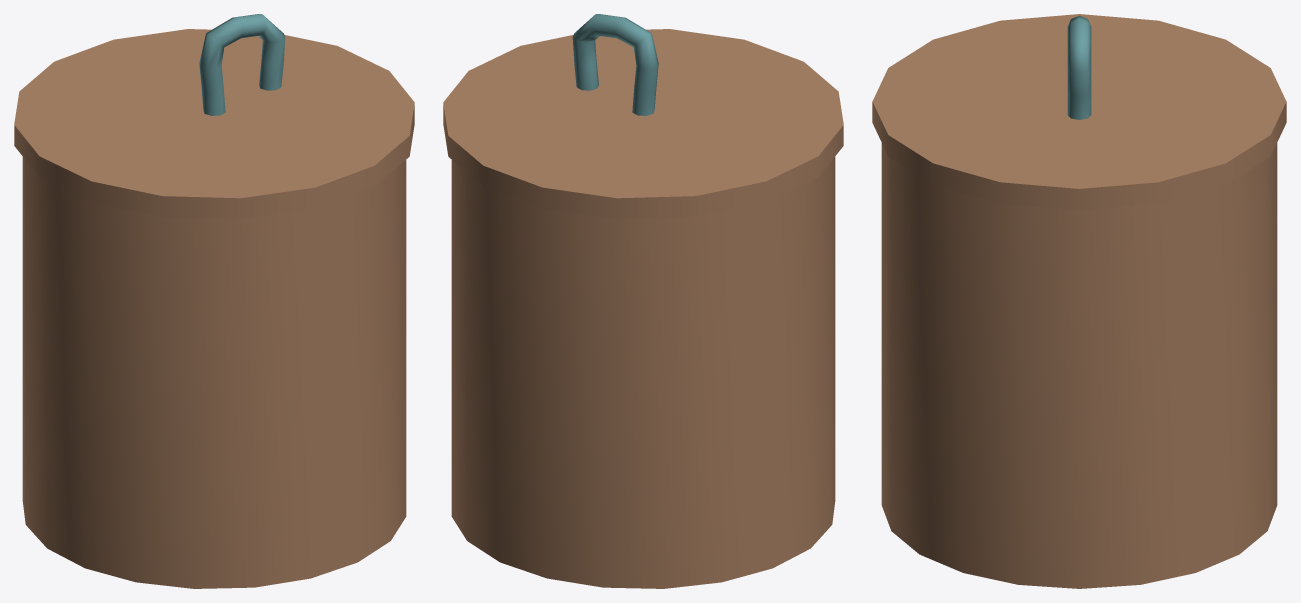
Rendered from survival-food-and-preservation-fermentation-crock-07bfa5d9__21782.glb.
3 renders of one model, left to right at view 1: azimuth 30°, elevation 25°; view 2: azimuth 150°, elevation 25°; view 3: azimuth 270°, elevation 25°, orthographic. The views are drawn at different scales.
Visible parts, largest first — view 1: fermentation-crock; view 2: fermentation-crock; view 3: fermentation-crock.
Part boxes in pixels (x1=…): fermentation-crock: x1=14, y1=14, x2=414, y2=588; fermentation-crock: x1=443, y1=14, x2=843, y2=588; fermentation-crock: x1=872, y1=14, x2=1286, y2=588.
Size of the model in its own units: 0.314 by 0.4158 by 0.314.
